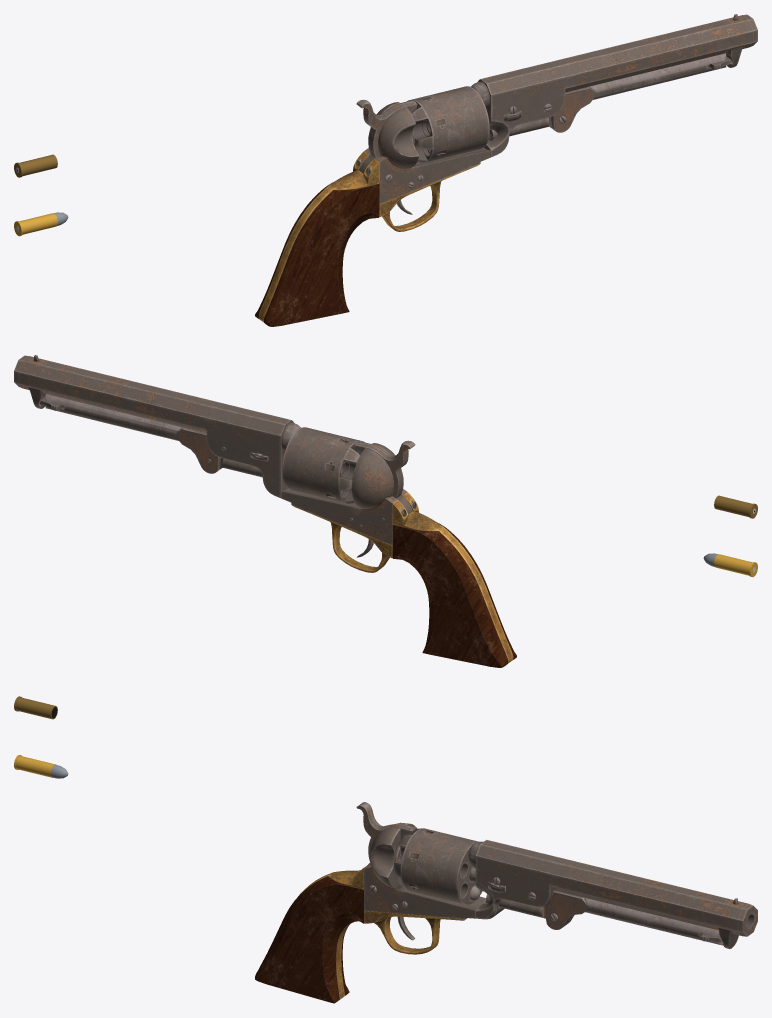
Rendered from revolver_colt.glb.
3 renders of one model, top to bottom at view 1: azimuth 30°, elevation 25°; view 2: azimuth 150°, elevation 25°; view 3: azimuth 330°, elevation 25°, orthographic.
Visible parts, largest first — view 1: REV_FRAME, REV_CYL, REV_HAMMER, REV_BULLET, REV_CASE; view 2: REV_FRAME, REV_CYL, REV_HAMMER, REV_BULLET, REV_CASE; view 3: REV_FRAME, REV_CYL, REV_HAMMER, REV_BULLET, REV_CASE.
Boxes of the visible parts, x1=… form: REV_FRAME: x1=255, y1=14, x2=757, y2=326; REV_CYL: x1=407, y1=86, x2=489, y2=162; REV_HAMMER: x1=356, y1=99, x2=417, y2=173; REV_BULLET: x1=14, y1=212, x2=68, y2=236; REV_CASE: x1=14, y1=154, x2=57, y2=177; REV_FRAME: x1=14, y1=355, x2=516, y2=667; REV_CYL: x1=282, y1=427, x2=364, y2=503; REV_HAMMER: x1=354, y1=440, x2=415, y2=514; REV_BULLET: x1=703, y1=553, x2=757, y2=577; REV_CASE: x1=714, y1=495, x2=757, y2=518; REV_FRAME: x1=255, y1=822, x2=757, y2=1003; REV_CYL: x1=393, y1=828, x2=482, y2=904; REV_HAMMER: x1=356, y1=802, x2=417, y2=865; REV_BULLET: x1=14, y1=755, x2=68, y2=778; REV_CASE: x1=14, y1=696, x2=57, y2=719.
Size of the model in its own units: 52.46 by 15.24 by 4.08.
Materials: 8 (3 with a texture image).
